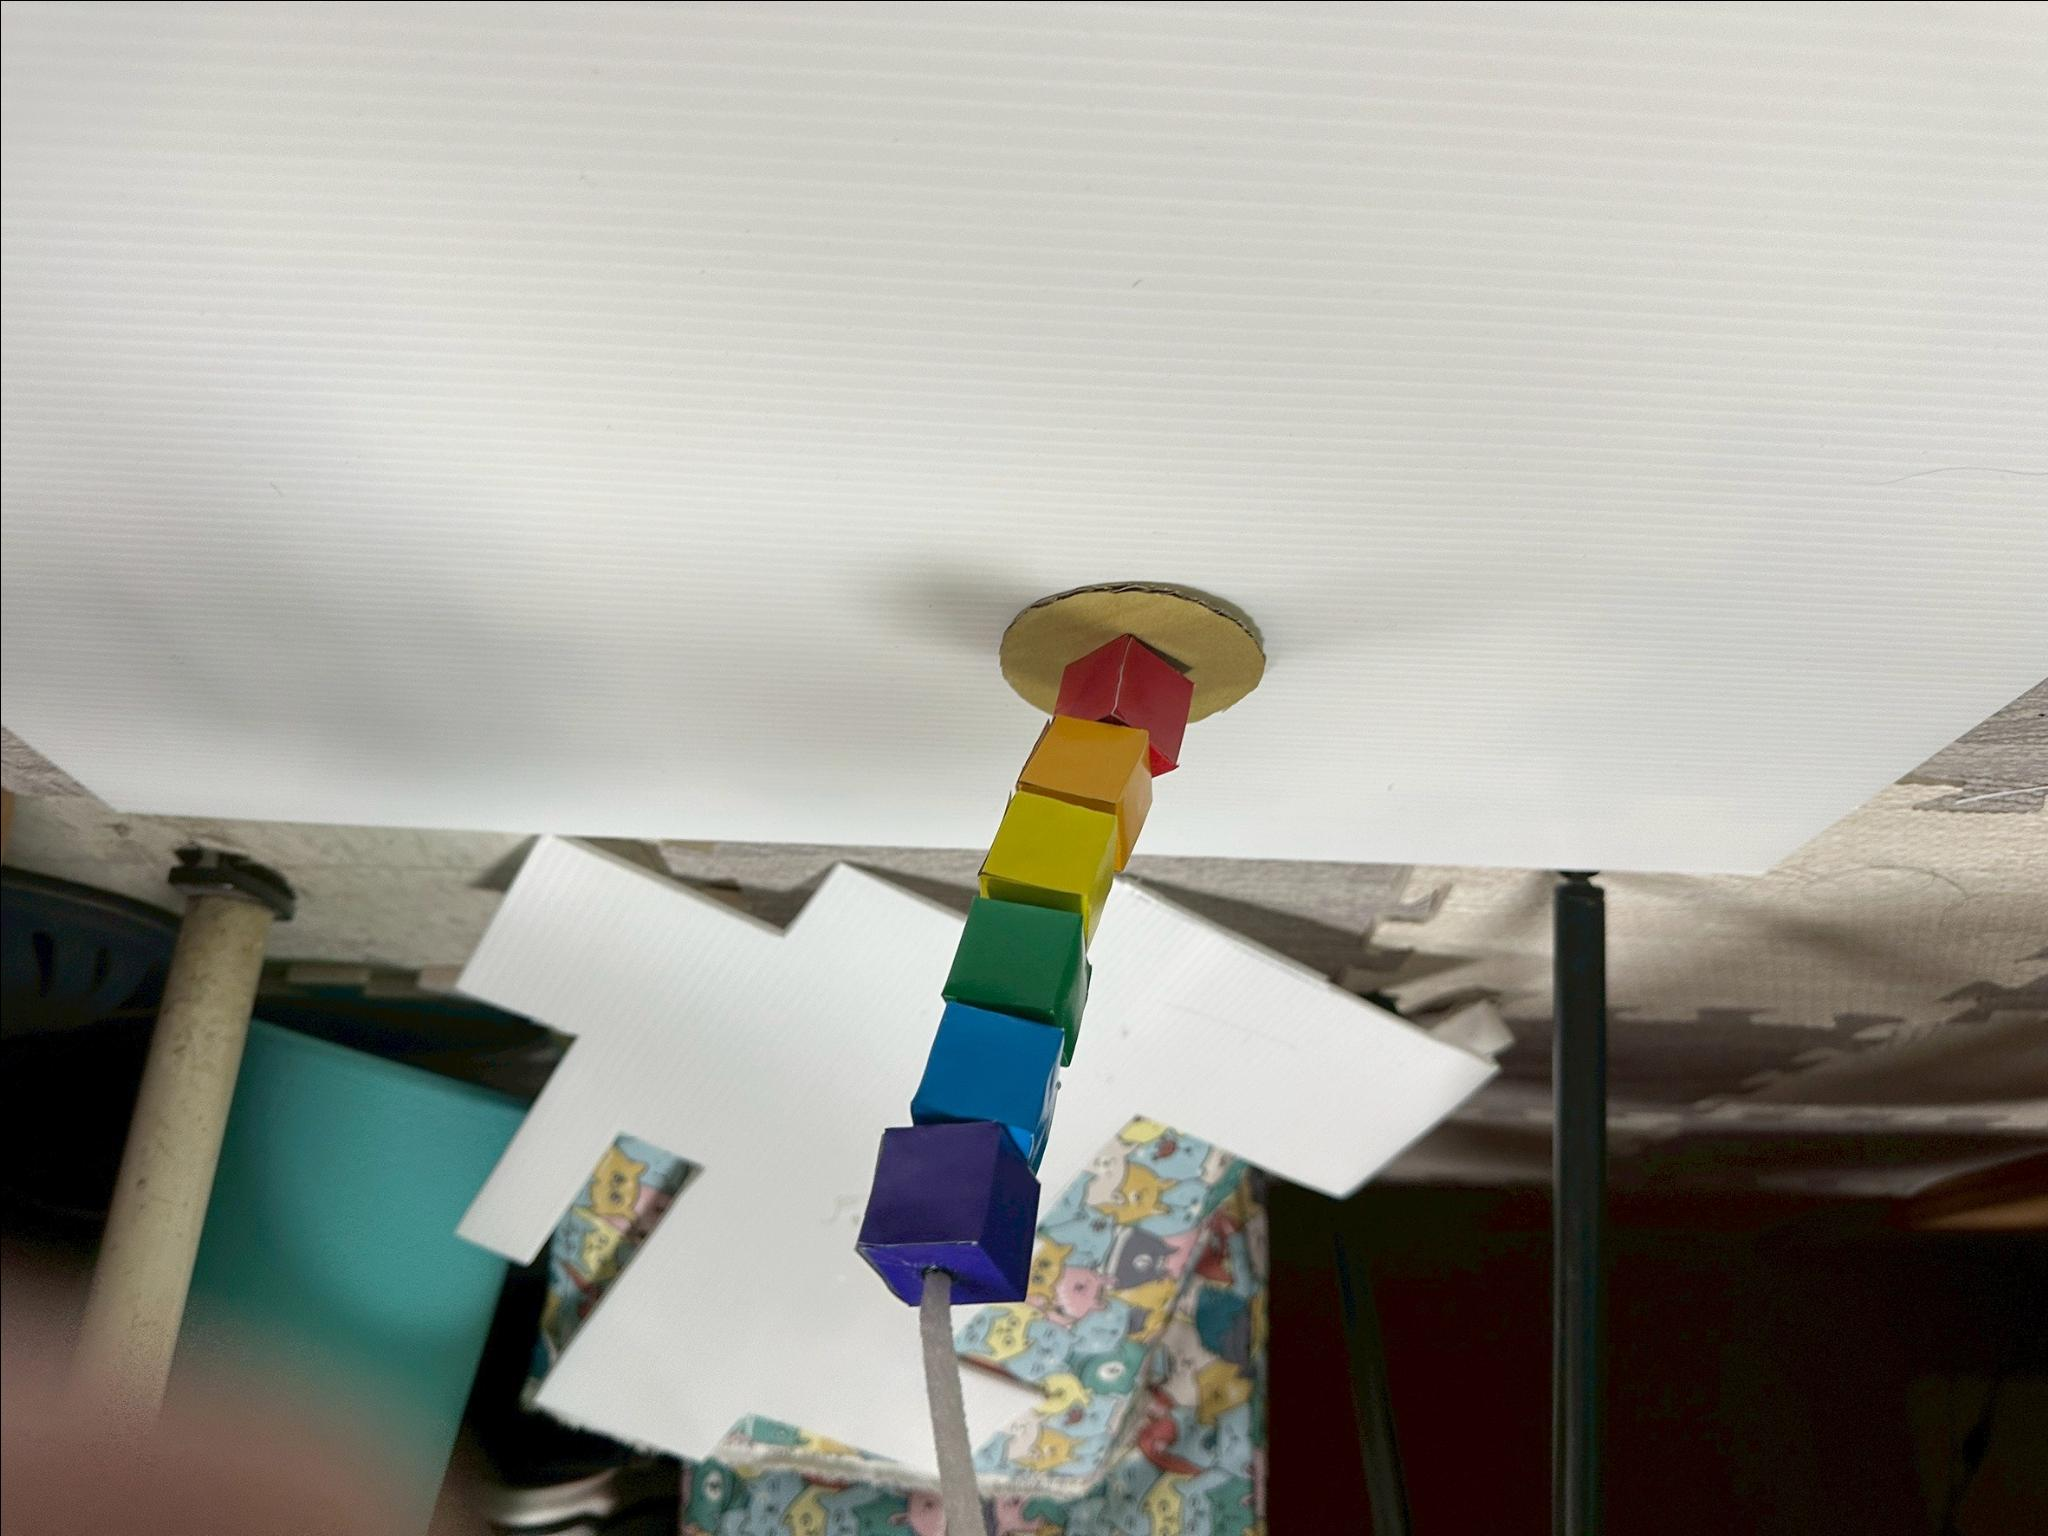base: (998, 584, 1263, 720)
cube: (858, 1120, 1039, 1305), (911, 1000, 1061, 1170), (940, 895, 1085, 1062), (1011, 713, 1151, 871), (979, 791, 1119, 934), (1055, 634, 1192, 773)
